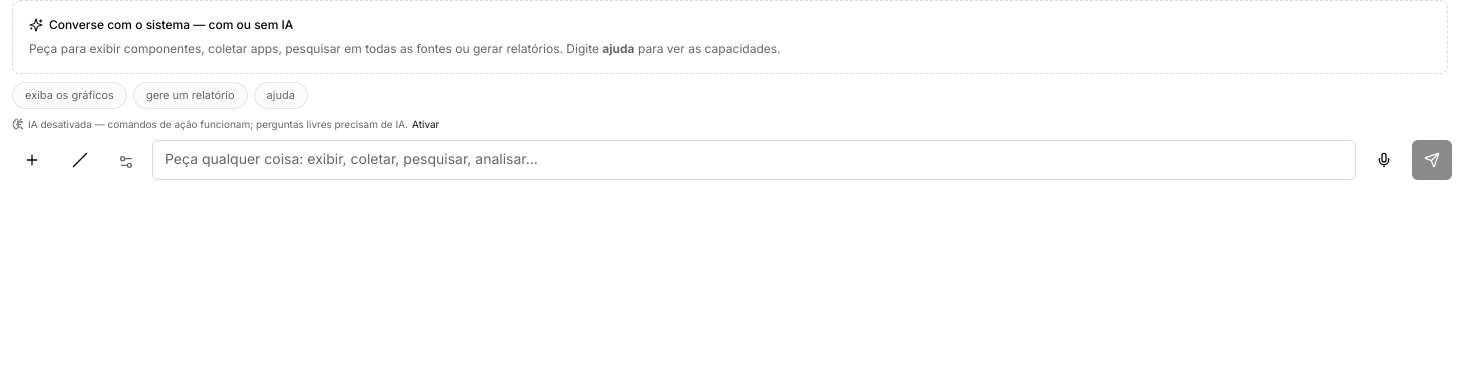
Scenario: UnifiedChatPanel — sem IA (ações locais) › pergunta livre sem IA orienta o usuário (sem quebrar)
The image size is (1464, 375).
Type "qual o sentido da vida?" into the text box named "Mensagem para a IA".
click(754, 160); type("qual o sentido da vida?")  # box [152,140,1356,180]
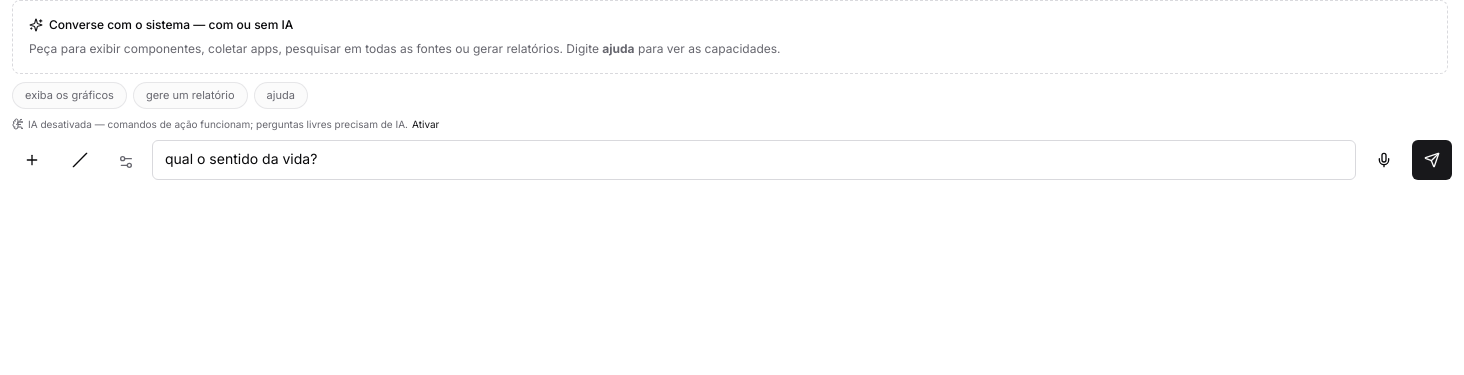
Press Enter in the text box named "Mensagem para a IA", box [152,140,1356,180]
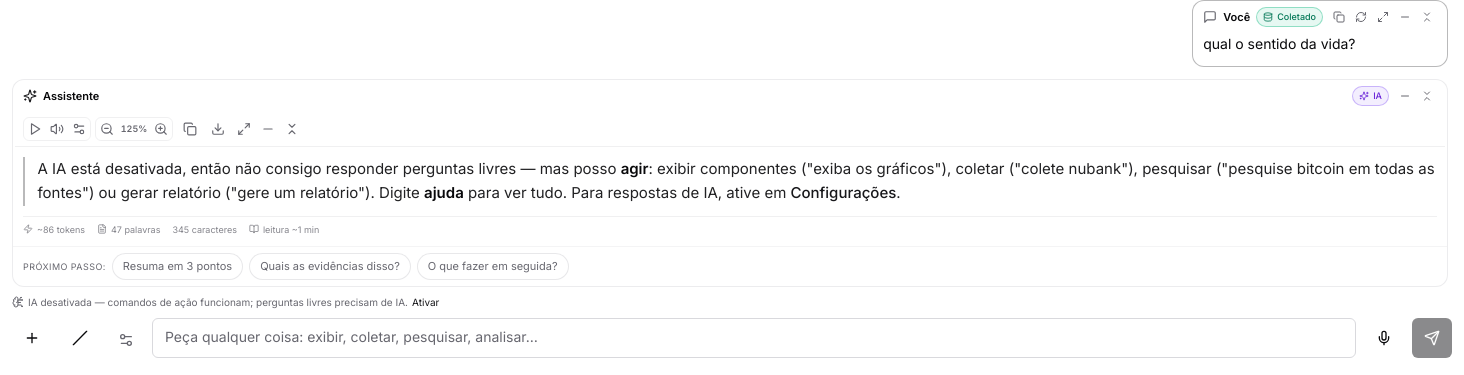
Check: the text "IA está desativada" is shown, box [38,159,621,178]
